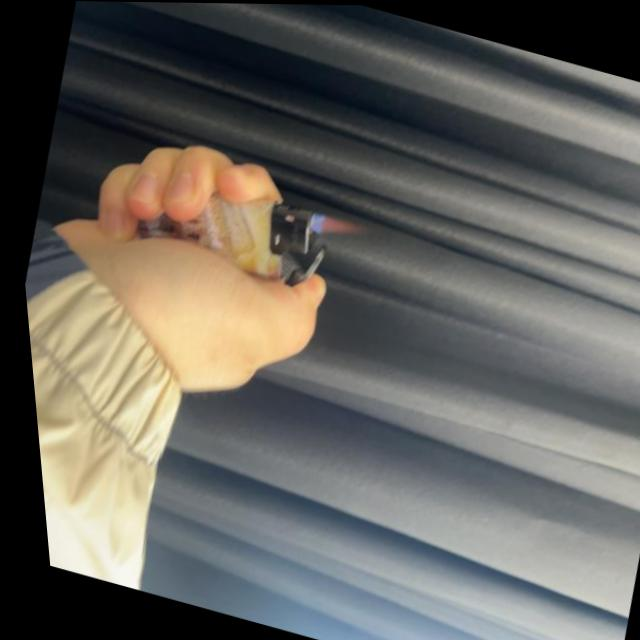Fire: (302, 205, 361, 247)
